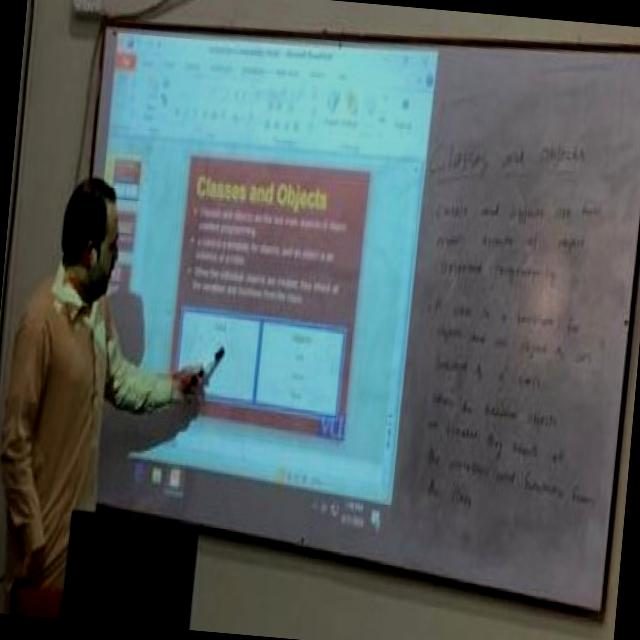Instructor: (8, 146, 131, 556)
Slide: (74, 27, 439, 543)
White-board: (55, 26, 640, 613)
